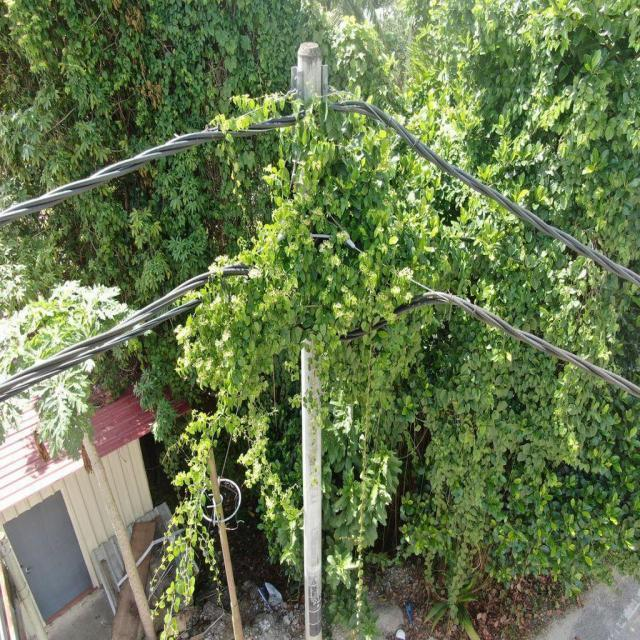critical vegetation: (202, 52, 409, 578)
